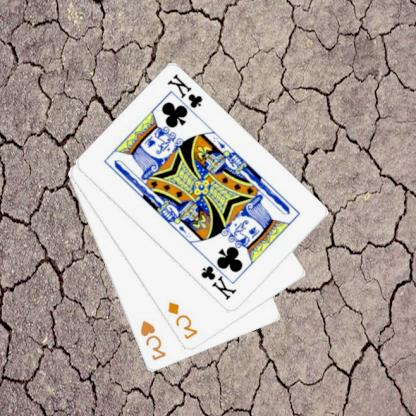3D: (166, 298, 201, 342)
3H: (139, 318, 170, 362)
KC: (166, 71, 206, 119), (200, 255, 240, 302)
